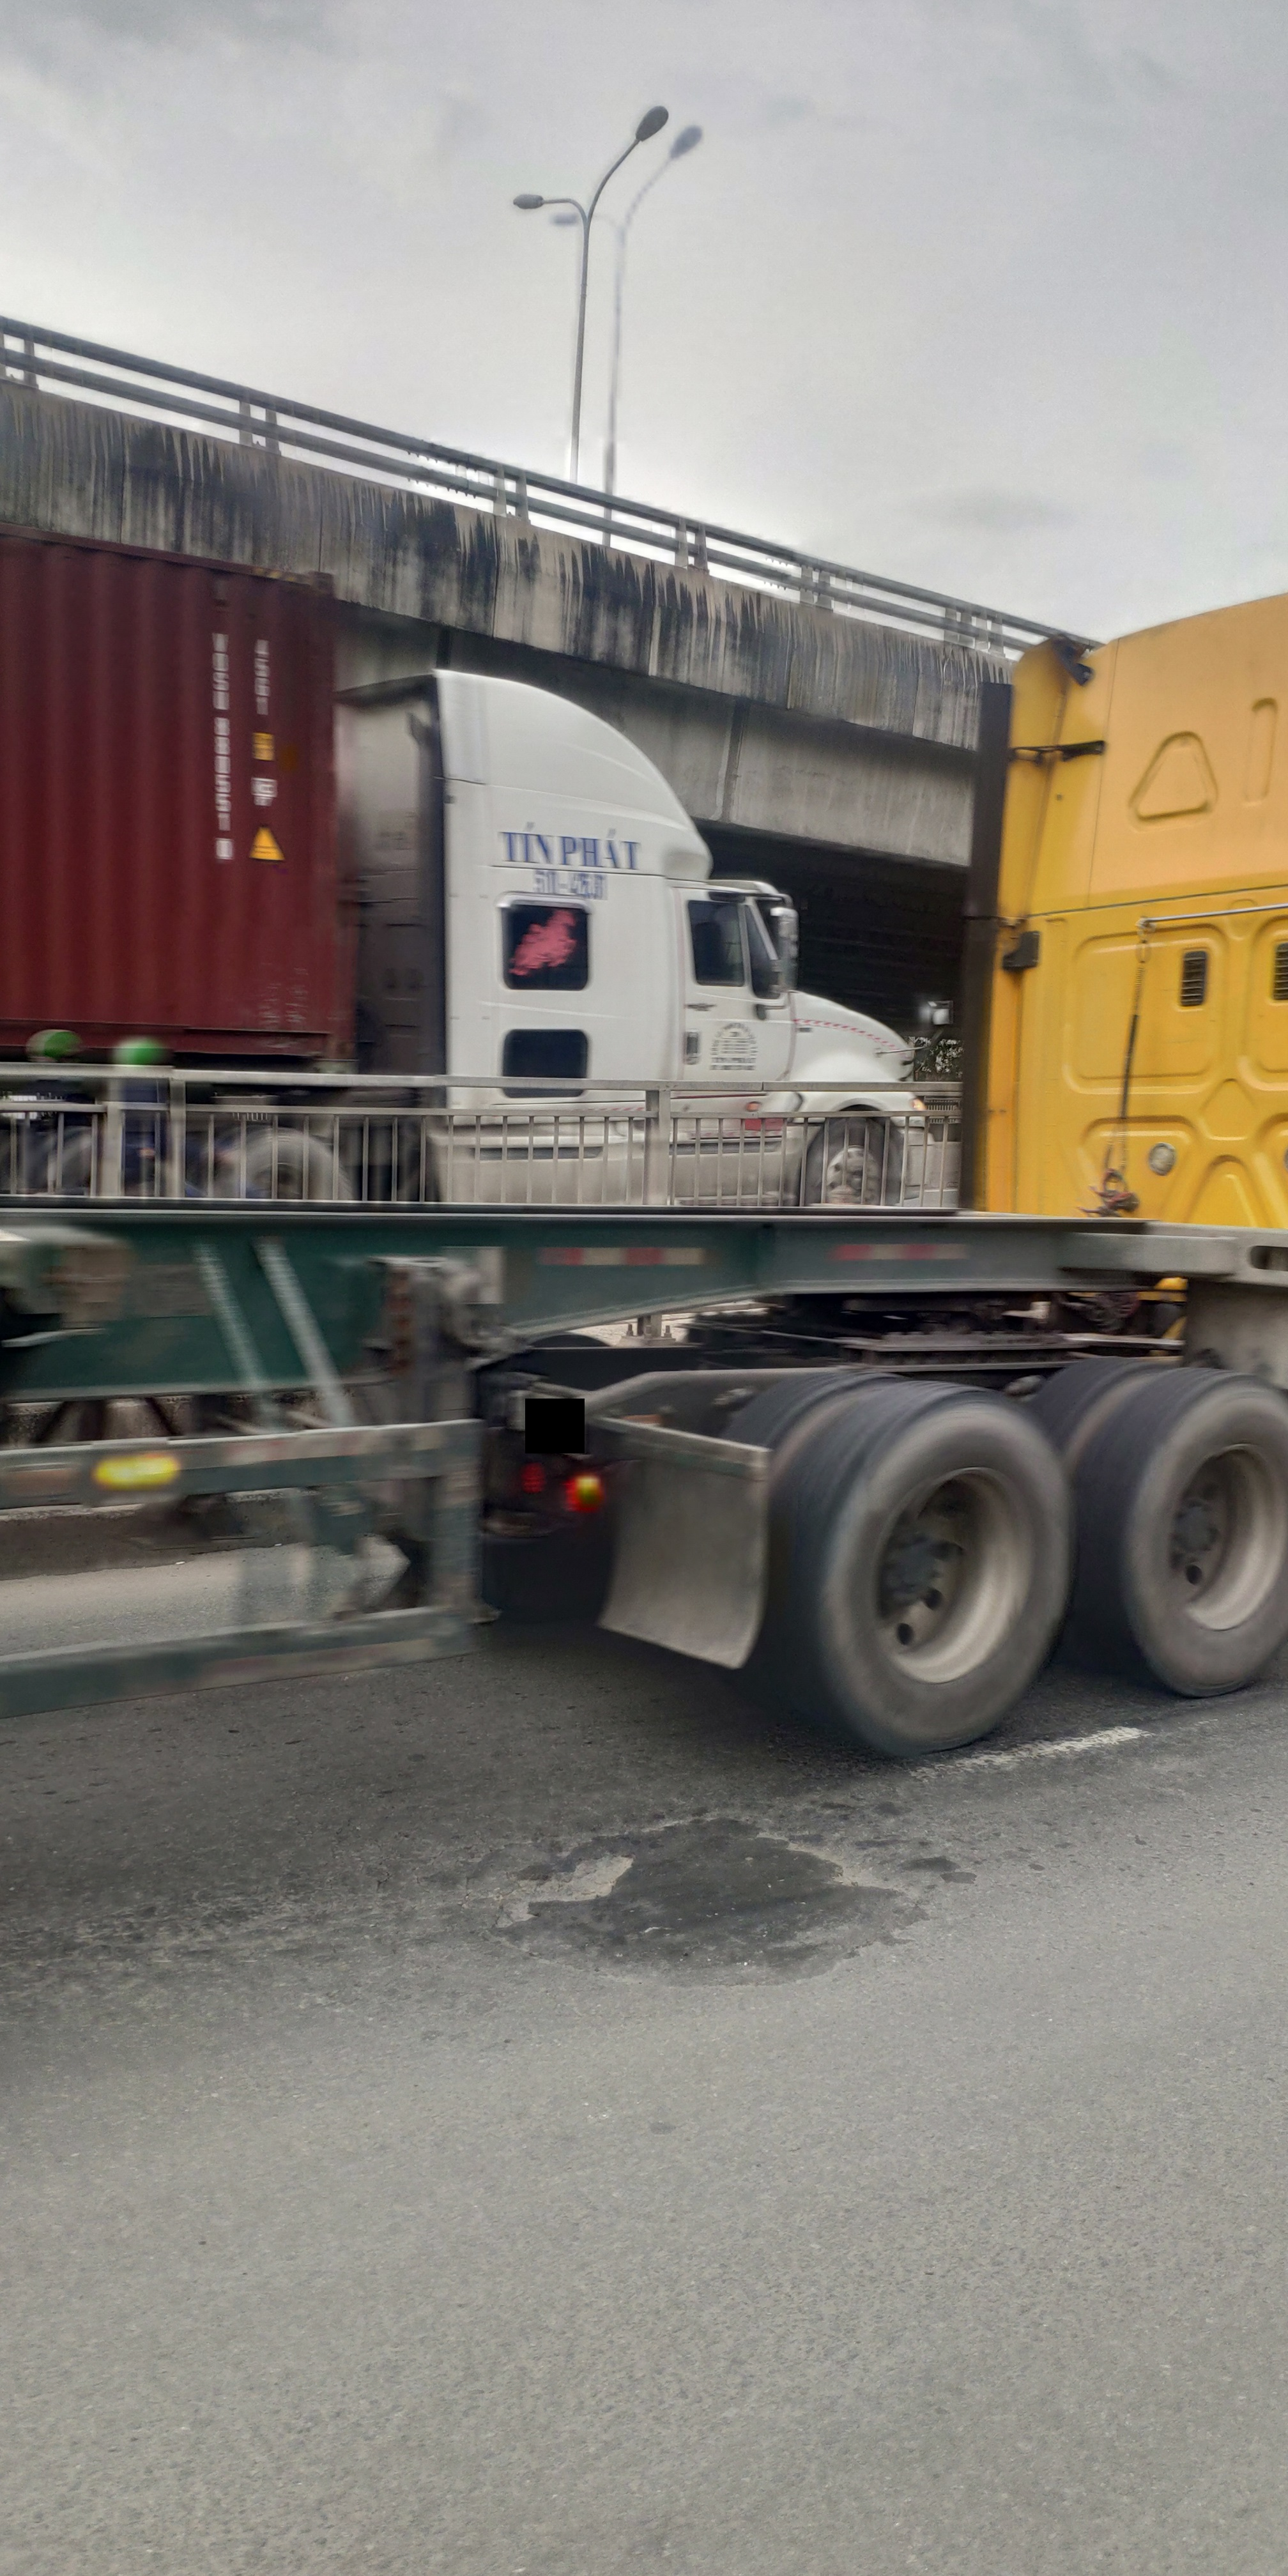hole: (463, 1820, 651, 1945)
